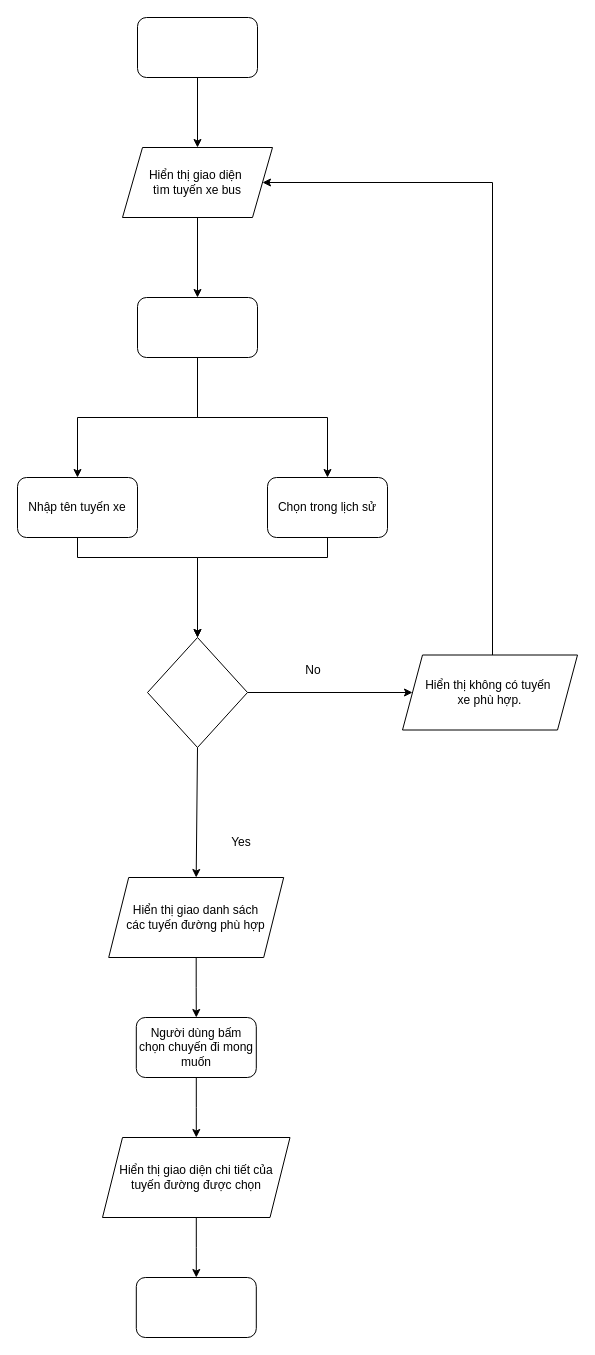
This 595x1355 diagram has some shape labels left out. The shapes that lost their labels are listed below. From the top down, each one's centre as x and y in pixels, then its label:
At point (197, 47): "Start".
At point (197, 327): "Nhấn nút Nhập tuyến xe bus cần tìm".
At point (197, 692): "Tìm được đường đi phù hợp?".
At point (195, 1307): "End".
